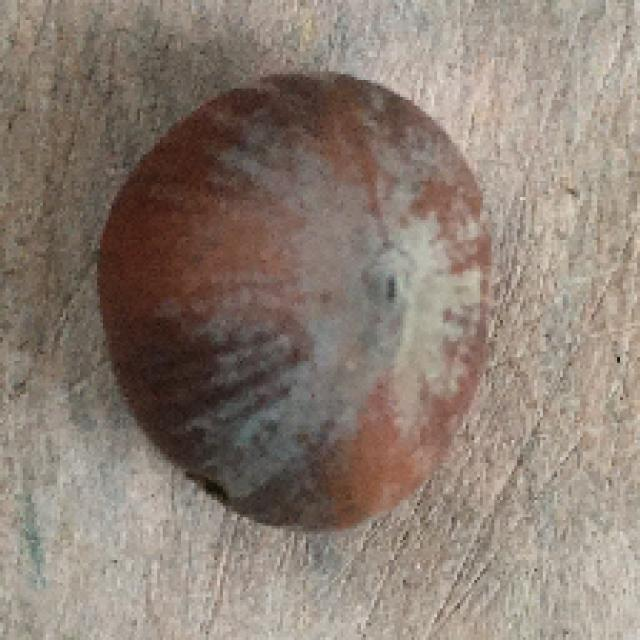qualityHazelnut: (97, 75, 512, 536)
